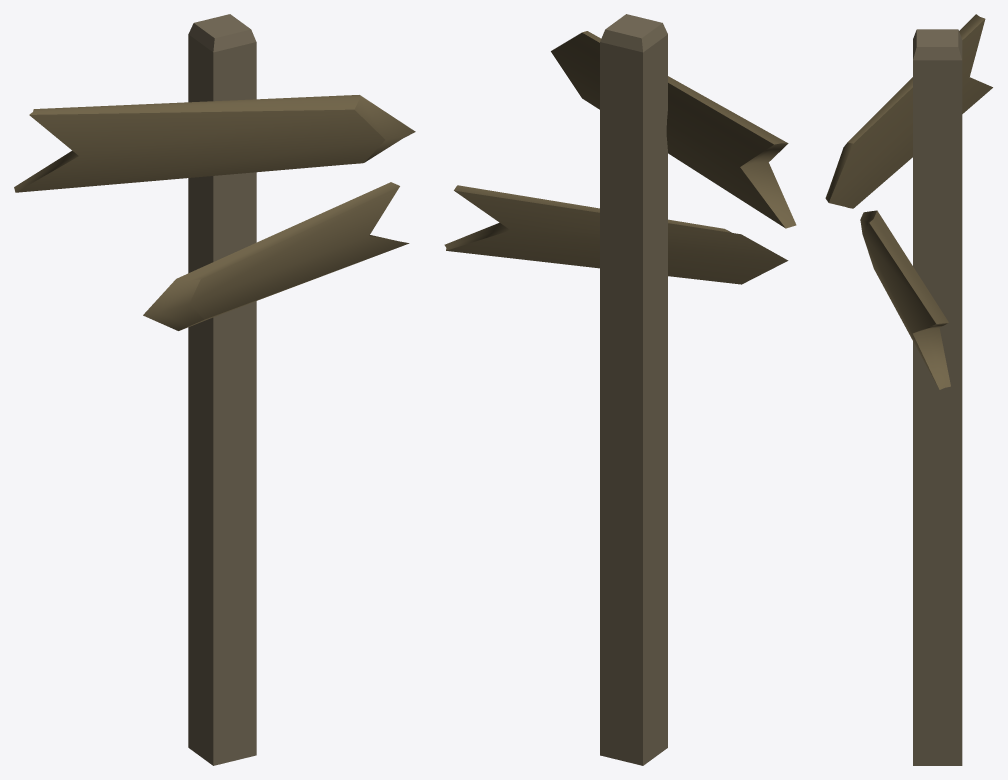
The model's file is Signpost_01.fbx.
3 views of the same model, side by side, from view 1: azimuth 30°, elevation 25°; view 2: azimuth 150°, elevation 25°; view 3: azimuth 270°, elevation 25° (orthographic).
Visible parts, largest first — view 1: pCube5; view 2: pCube5; view 3: pCube5.
Boxes of the visible parts, left/top/right/bottom form: pCube5: left=14, top=14, right=415, bottom=765; pCube5: left=444, top=14, right=796, bottom=765; pCube5: left=825, top=14, right=992, bottom=765.
Bounding box in the file's own units: 96.39 × 179 × 37.99.
